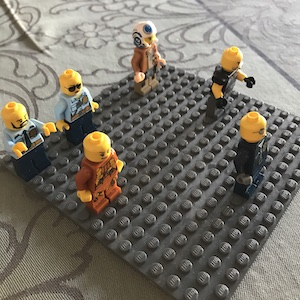Lego: (1, 103, 55, 179), (75, 131, 123, 212), (55, 68, 102, 149), (231, 111, 269, 198), (210, 46, 245, 123), (130, 21, 165, 94)
